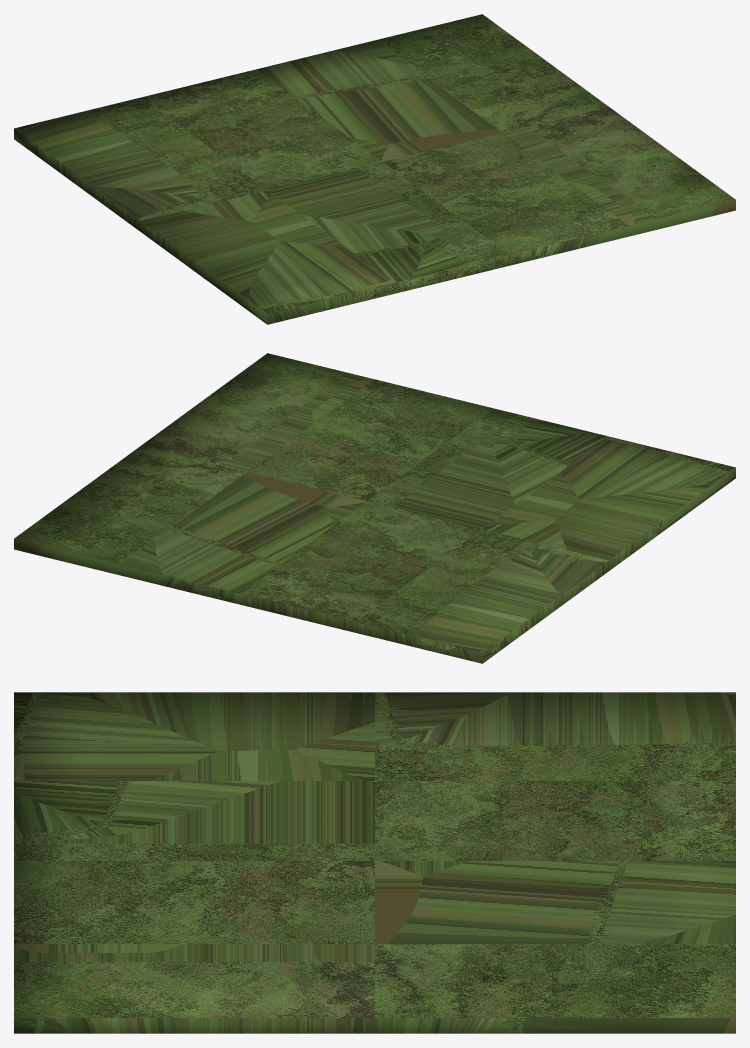
File: Piso_new.fbx
3 renders of one model, top to bottom at view 1: azimuth 30°, elevation 25°; view 2: azimuth 150°, elevation 25°; view 3: azimuth 270°, elevation 25°, orthographic. The views are drawn at different scales.
Visible parts, largest first — view 1: Piso; view 2: Piso; view 3: Piso.
Boxes of the visible parts, left/top/right/bottom form: Piso: left=14, top=14, right=735, bottom=324; Piso: left=14, top=353, right=735, bottom=663; Piso: left=14, top=692, right=735, bottom=1033.
Bounding box in the file's own units: 65481 × 1448 × 61366.
